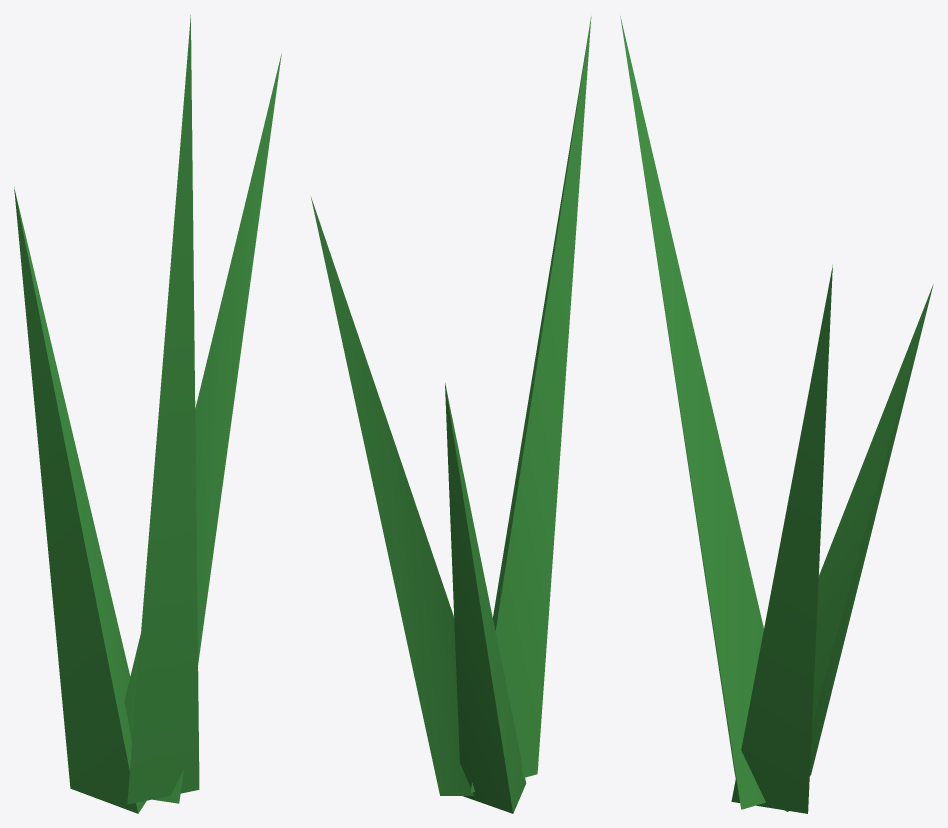
The model's file is plant_010.glb.
The picture shows the model from 3 angles, left to right: view 1: azimuth 30°, elevation 25°; view 2: azimuth 150°, elevation 25°; view 3: azimuth 270°, elevation 25°; orthographic projection. The views are drawn at different scales.
Visible parts, largest first — view 1: plant_010; view 2: plant_010; view 3: plant_010.
Part boxes in pixels (<box>): plant_010: <box>14,15,281,813</box>; plant_010: <box>310,16,591,813</box>; plant_010: <box>620,16,933,813</box>.
Size of the model in its own units: 0.3011 by 1.1 by 0.4051.
1 material, 1 textured.
